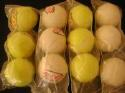tennis ball: (68, 54, 101, 82), (5, 59, 35, 86), (7, 31, 36, 57), (68, 28, 96, 53), (11, 6, 37, 31), (69, 4, 94, 28)
